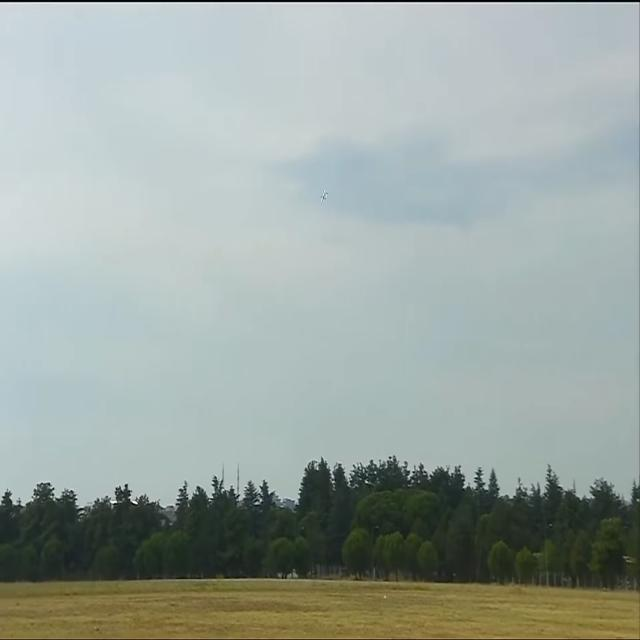iha: (323, 186, 326, 203)
